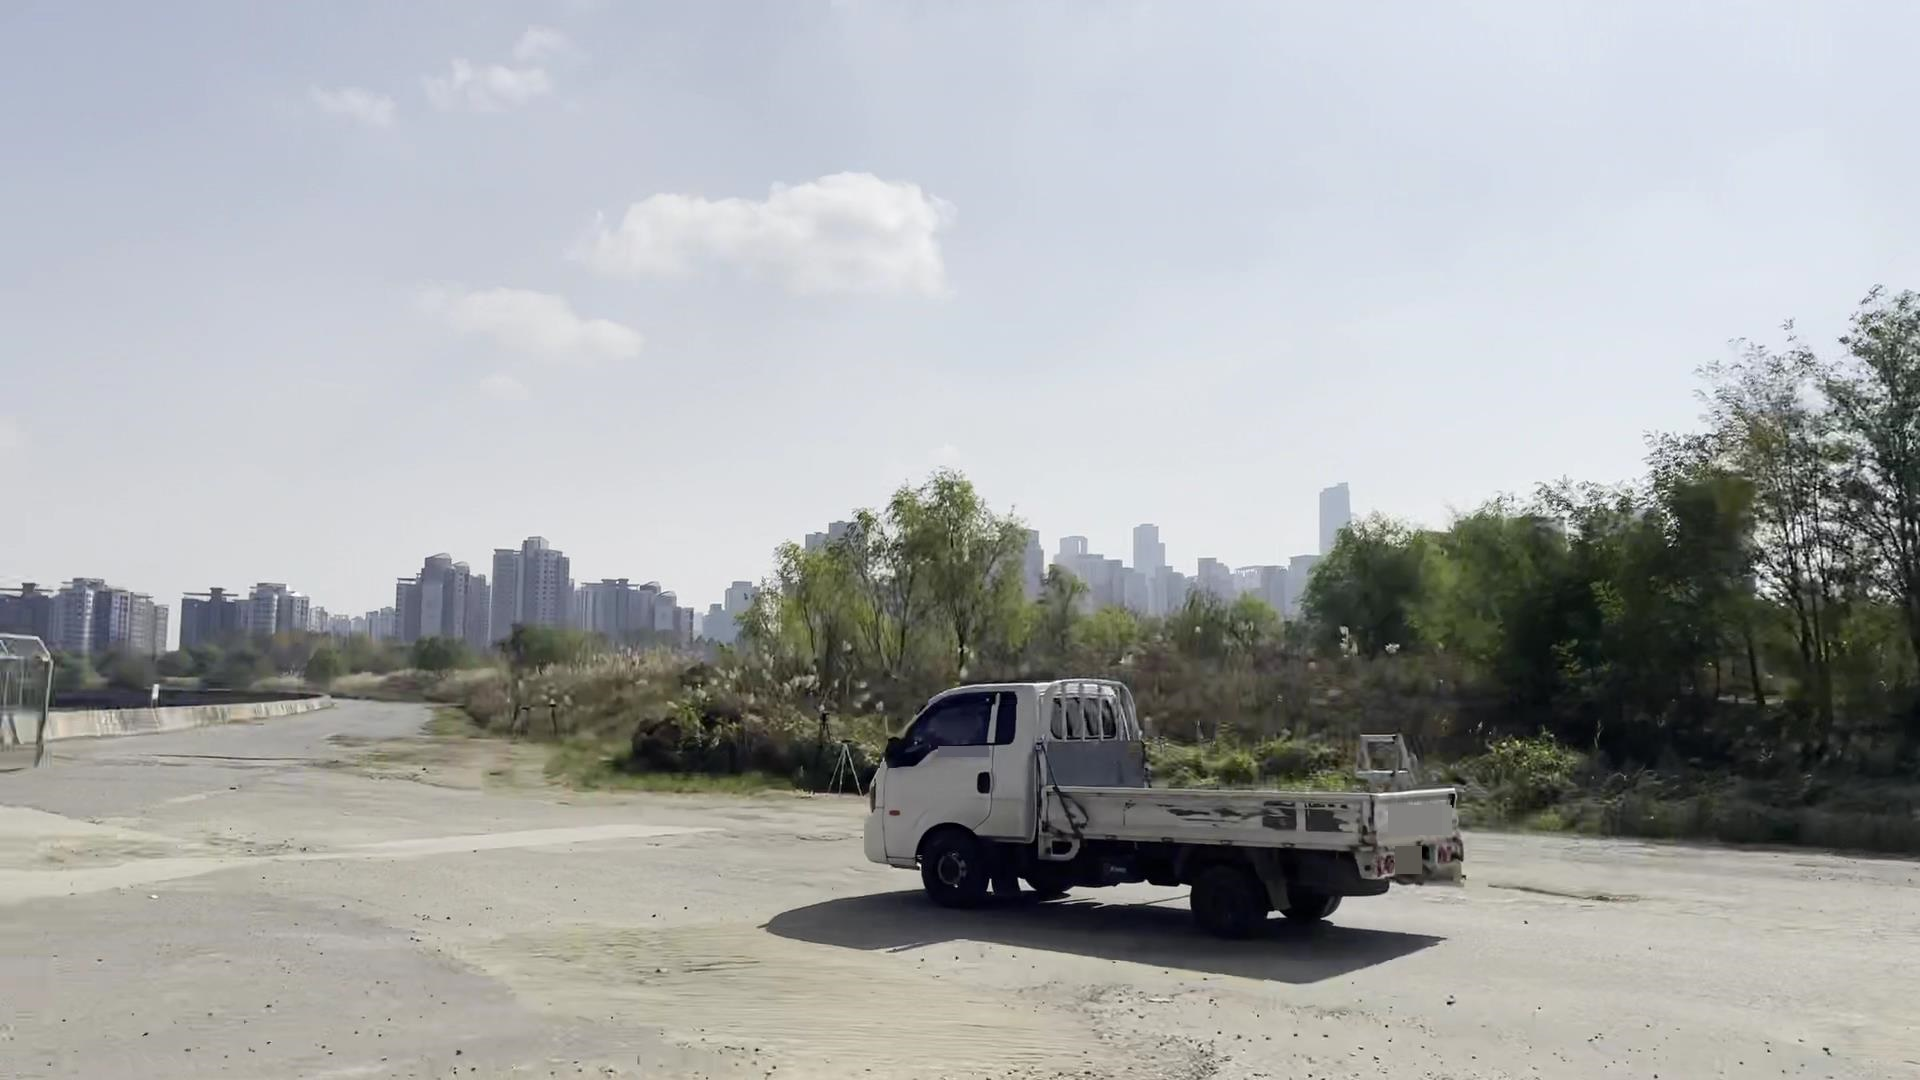불법차량: (864, 676, 1464, 942)
